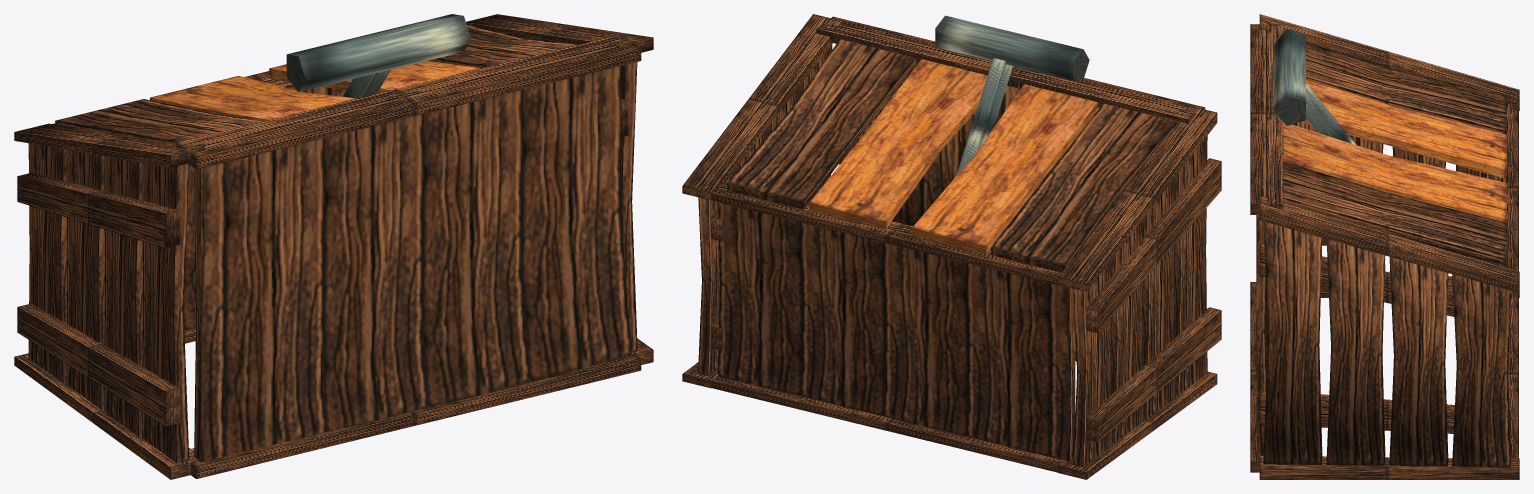
The model's file is CATA_SWITCH1_IDLE.fbx.
3 renders of one model, left to right at view 1: azimuth 30°, elevation 25°; view 2: azimuth 150°, elevation 25°; view 3: azimuth 270°, elevation 25°, orthographic. The views are drawn at different scales.
Visible parts, largest first — view 1: CATA_SWITCH1_IDLE; view 2: CATA_SWITCH1_IDLE; view 3: CATA_SWITCH1_IDLE.
Boxes of the visible parts, x1=… form: CATA_SWITCH1_IDLE: x1=14, y1=14, x2=653, y2=479; CATA_SWITCH1_IDLE: x1=682, y1=14, x2=1221, y2=479; CATA_SWITCH1_IDLE: x1=1250, y1=14, x2=1519, y2=479.
Bounding box in the file's own units: 12625 × 9318 × 7259.
Materials: 3 (3 with a texture image).
